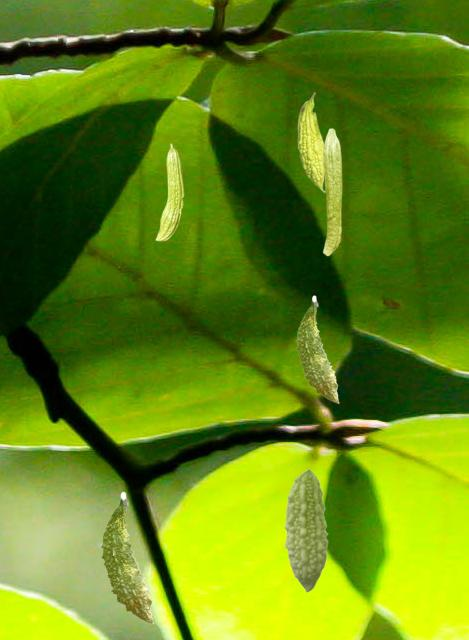ampalaya: (99, 491, 154, 624), (283, 468, 328, 593), (295, 295, 339, 403), (155, 143, 184, 241), (297, 91, 324, 193), (322, 128, 342, 256)
